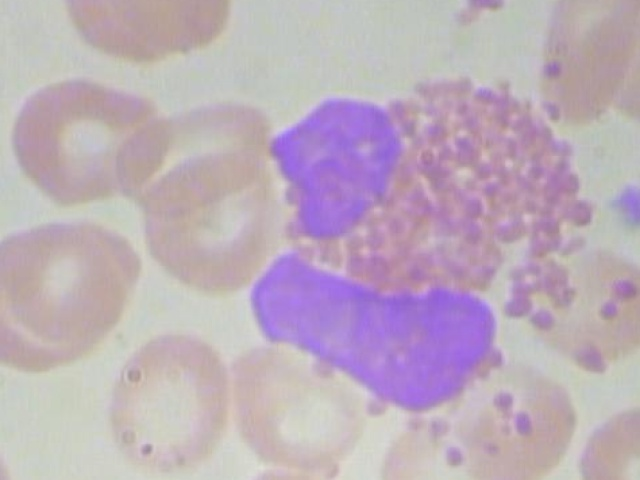Platelets: (598, 175, 640, 236)
RBC: (112, 84, 280, 218), (101, 323, 241, 480), (231, 332, 377, 478), (509, 248, 640, 378), (448, 365, 596, 480), (533, 0, 640, 130), (55, 0, 241, 68), (572, 401, 640, 480), (205, 462, 366, 480), (0, 422, 28, 480)
WBC: (254, 72, 609, 420)
